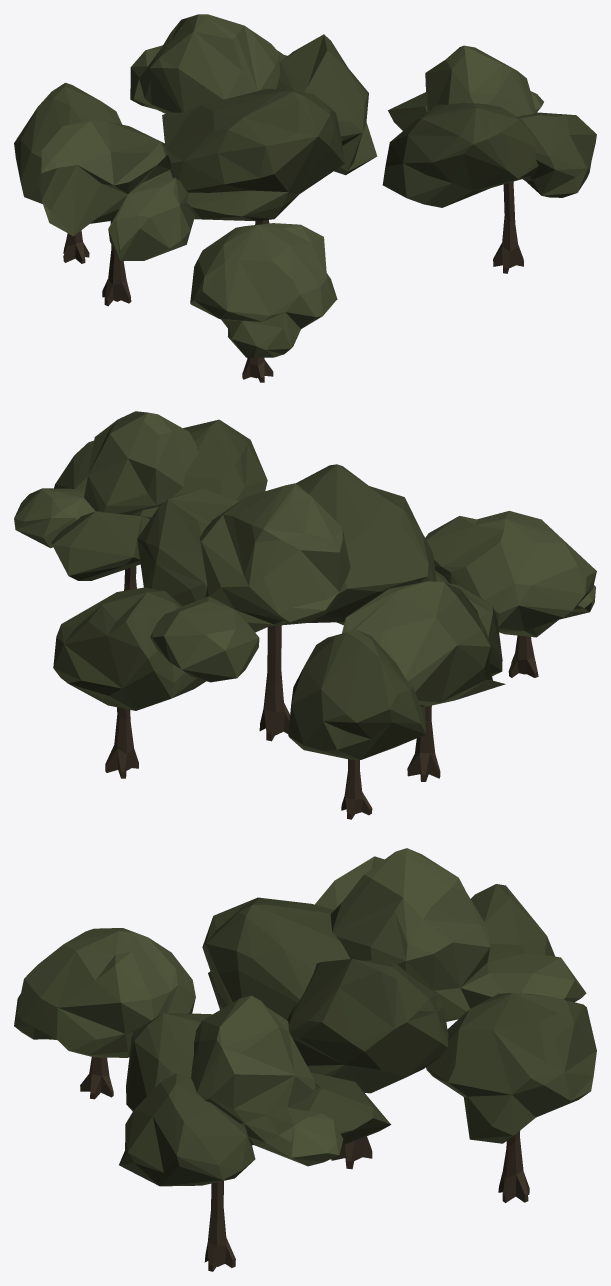
The model's file is bg-jungle.glb.
3 views of the same model, one above another, from view 1: azimuth 30°, elevation 25°; view 2: azimuth 150°, elevation 25°; view 3: azimuth 270°, elevation 25° (orthographic). The views are drawn at different scales.
Parts seen in each view (by area): view 1: SM_Env_Tree_Group_03; view 2: SM_Env_Tree_Group_03; view 3: SM_Env_Tree_Group_03.
Part boxes in pixels (x1,y1,x2,y2): SM_Env_Tree_Group_03: [14, 14, 596, 382]; SM_Env_Tree_Group_03: [14, 411, 596, 819]; SM_Env_Tree_Group_03: [14, 848, 596, 1271].
Size of the model in its own units: 12.8 by 6.54 by 11.89.
Materials: 1 (1 with a texture image).
